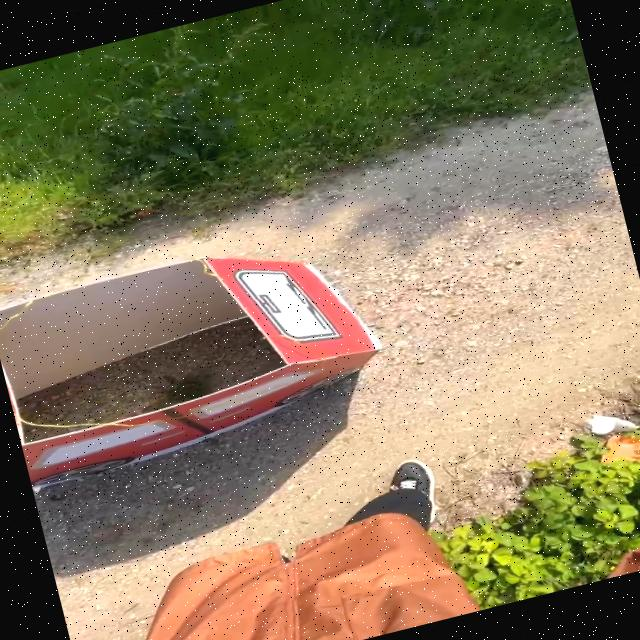red_car: (0, 206, 424, 488)
